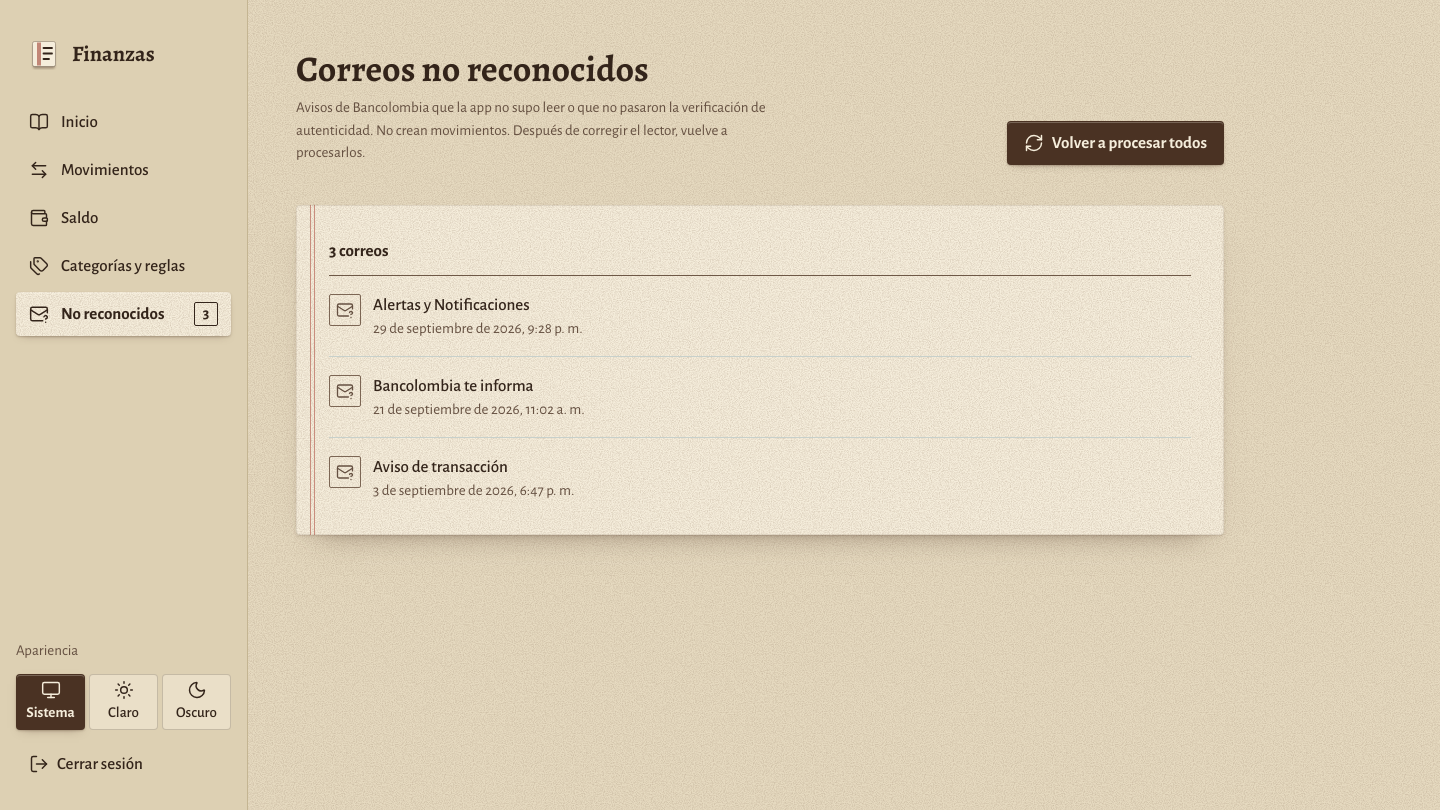
Test: Correos no reconocidos › si se reconocen todos, queda el estado vacío y el aviso
This screenshot has width=1440, height=810.
Click the button "Volver a procesar todos" at (1115, 143), box [1007, 121, 1224, 165]
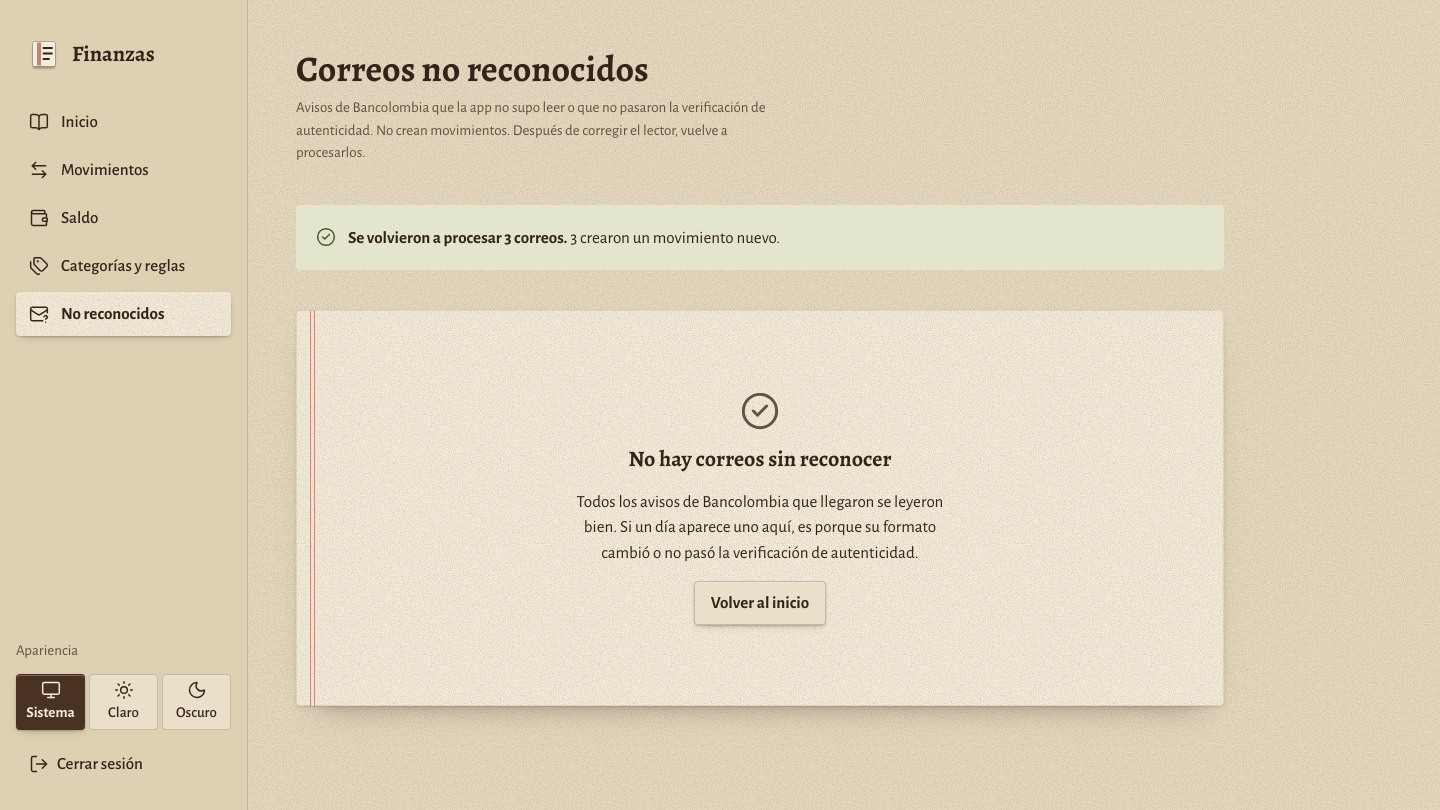
Now the heading "No hay correos sin reconocer" is shown, box [628, 447, 891, 473]
Now the message shows "3 crearon un movimiento nuevo.", box [567, 229, 780, 246]
Now the button "Volver a procesar todos" is gone
